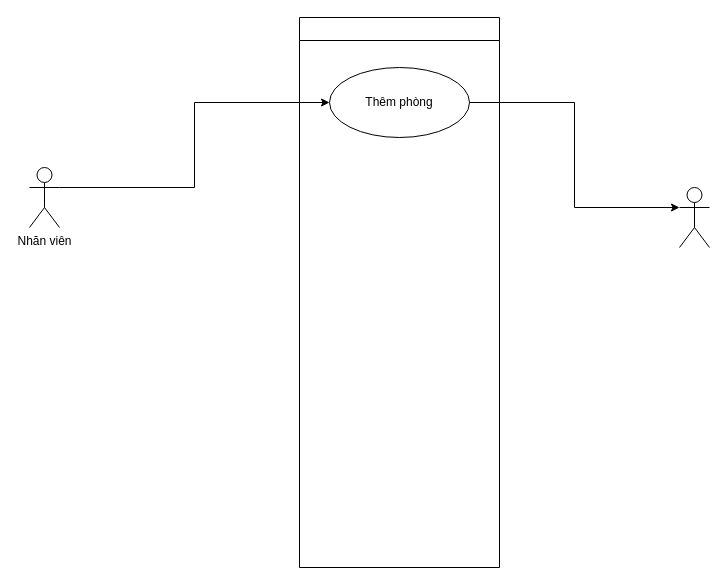
This 727x585 diagram has some shape labels left out. The shapes that lost their labels are listed below. From the top down, each one's box as (x1, y1, x2, y2) in pixels, then its label:
(678, 186, 710, 248): room
(298, 16, 500, 568): Luxury hotel
